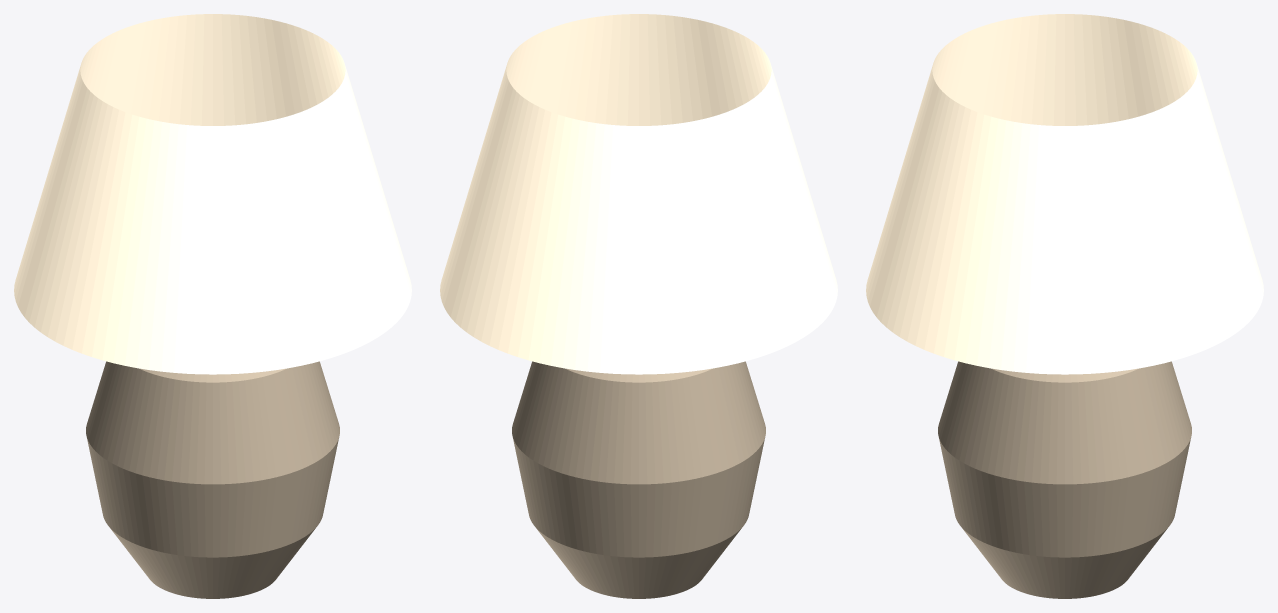
Rendered from lysa-keramiklampa.glb.
3 views of the same model, side by side, from view 1: azimuth 30°, elevation 25°; view 2: azimuth 150°, elevation 25°; view 3: azimuth 270°, elevation 25° (orthographic).
Visible parts, largest first — view 1: lysa-keramiklampa-1, lysa-keramiklampa-0; view 2: lysa-keramiklampa-1, lysa-keramiklampa-0; view 3: lysa-keramiklampa-1, lysa-keramiklampa-0.
Part boxes in pixels (left/top/right/bottom): lysa-keramiklampa-1: left=14, top=14, right=411, bottom=374; lysa-keramiklampa-0: left=86, top=361, right=339, bottom=598; lysa-keramiklampa-1: left=440, top=14, right=837, bottom=374; lysa-keramiklampa-0: left=512, top=361, right=765, bottom=598; lysa-keramiklampa-1: left=866, top=14, right=1263, bottom=374; lysa-keramiklampa-0: left=938, top=361, right=1191, bottom=598.
Bounding box in the file's own units: 0.36 × 0.5 × 0.36.
